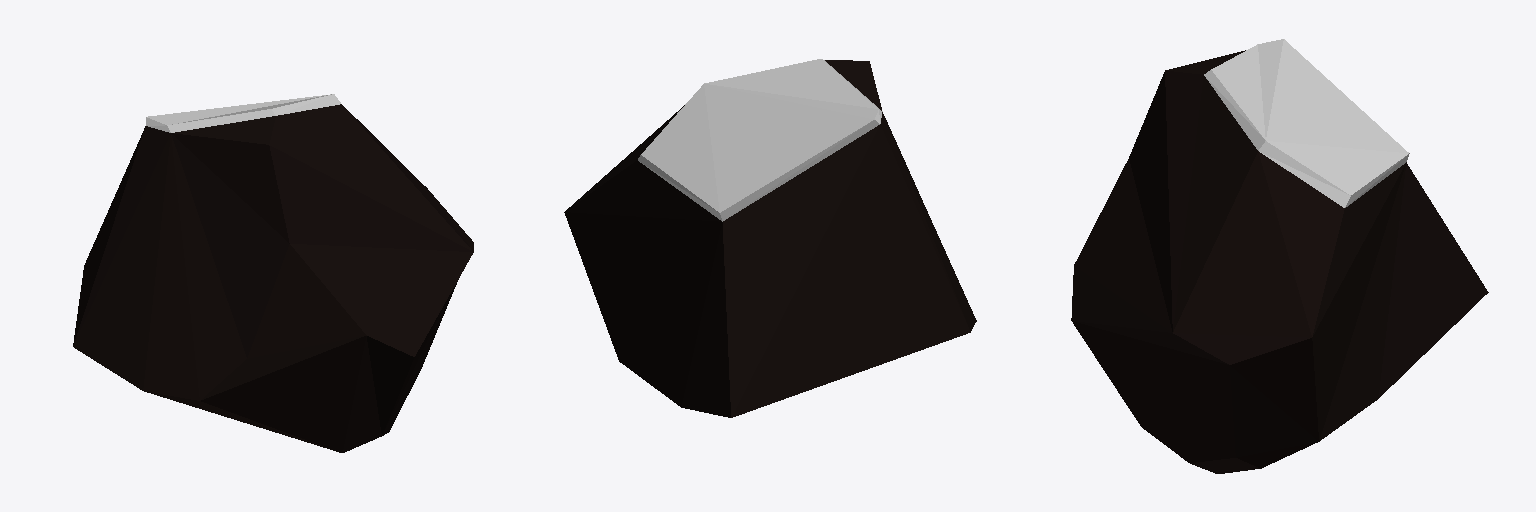
Rendered from Rock_11.obj.
3 views of the same model, side by side, from view 1: azimuth 30°, elevation 25°; view 2: azimuth 150°, elevation 25°; view 3: azimuth 270°, elevation 25° (orthographic).
Parts seen in each view (by area): view 1: Cube.007_Cube.008; view 2: Cube.007_Cube.008; view 3: Cube.007_Cube.008.
Part boxes in pixels (left/top/right/bottom): Cube.007_Cube.008: left=73, top=94, right=473, bottom=452; Cube.007_Cube.008: left=564, top=59, right=976, bottom=417; Cube.007_Cube.008: left=1071, top=39, right=1488, bottom=473.
Size of the model in its own units: 2.97 by 2.61 by 2.78.